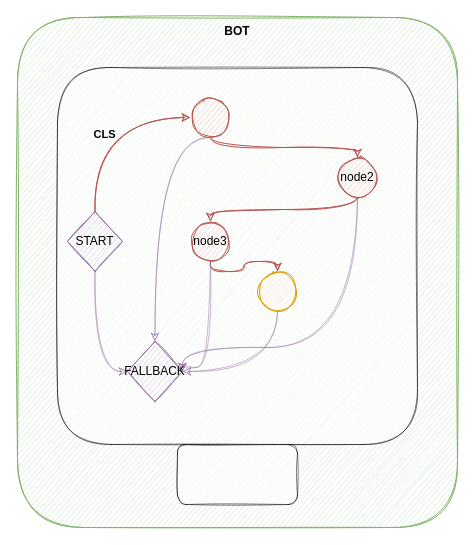
Some shapes in this 475 by 545 pixel diagram are drawn without their labels. The centre of each missing label's shape, as x and y in pixels:
greeting_flow: (237,474)
node1: (210,117)
node4: (277,291)
